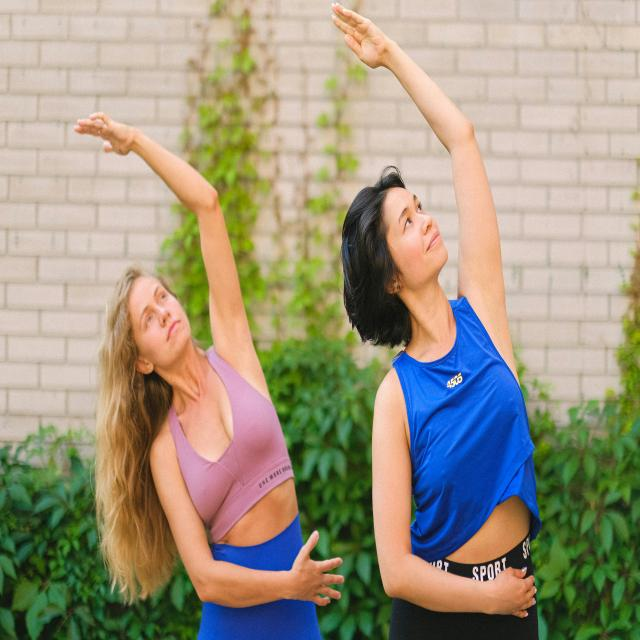stand: (105, 142, 353, 640), (326, 189, 552, 640)
